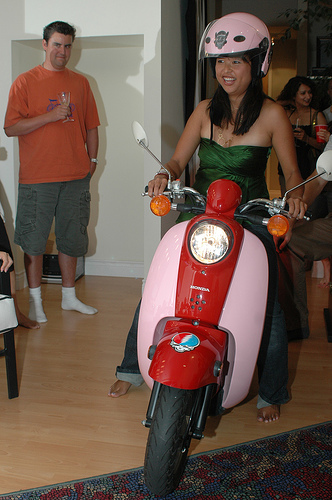helmet: (197, 18, 277, 71)
